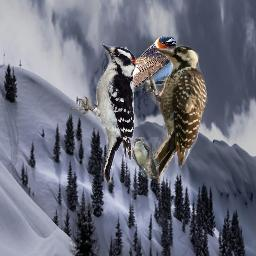Swallow: (111, 35, 178, 95), (131, 137, 159, 180)
Woodpecker: (71, 42, 138, 184), (143, 42, 208, 186)
